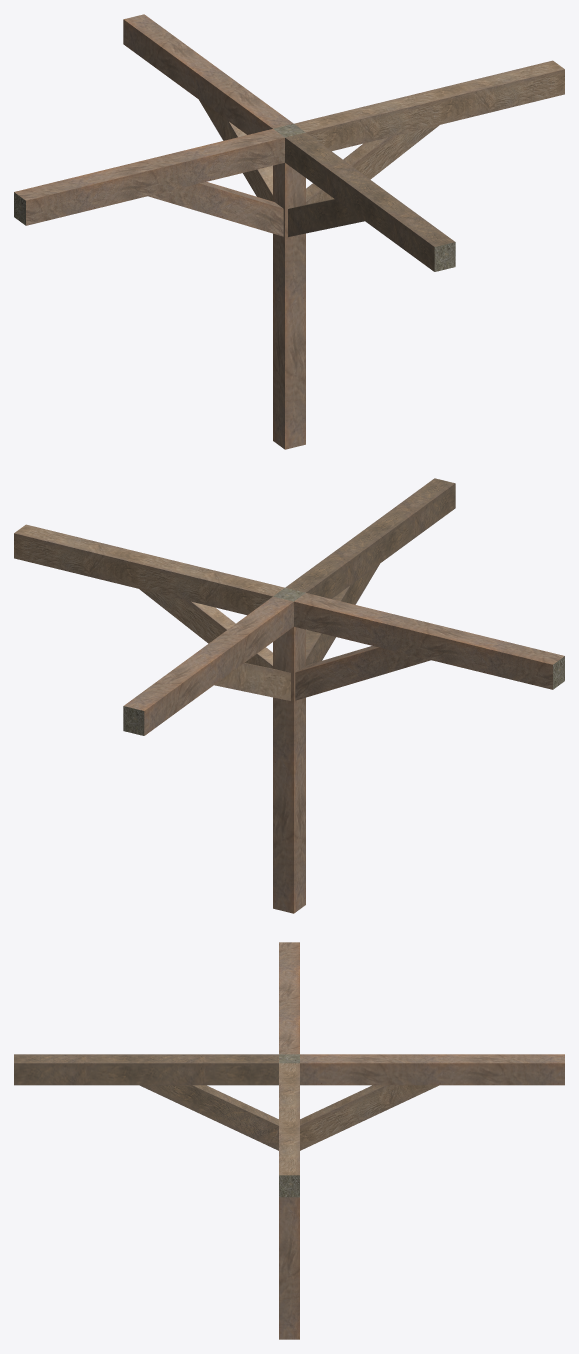
The model's file is WoodCenterScaffoldA.fbx.
3 views of the same model, one above another, from view 1: azimuth 30°, elevation 25°; view 2: azimuth 150°, elevation 25°; view 3: azimuth 270°, elevation 25° (orthographic). The views are drawn at different scales.
Parts seen in each view (by area): view 1: WoodCenterScaffoldA; view 2: WoodCenterScaffoldA; view 3: WoodCenterScaffoldA.
Part boxes in pixels (box(x1,y1,x2,y2)): WoodCenterScaffoldA: box(14, 14, 564, 449); WoodCenterScaffoldA: box(14, 478, 564, 913); WoodCenterScaffoldA: box(14, 942, 564, 1339).
Size of the model in its own units: 778 by 431 by 778.
